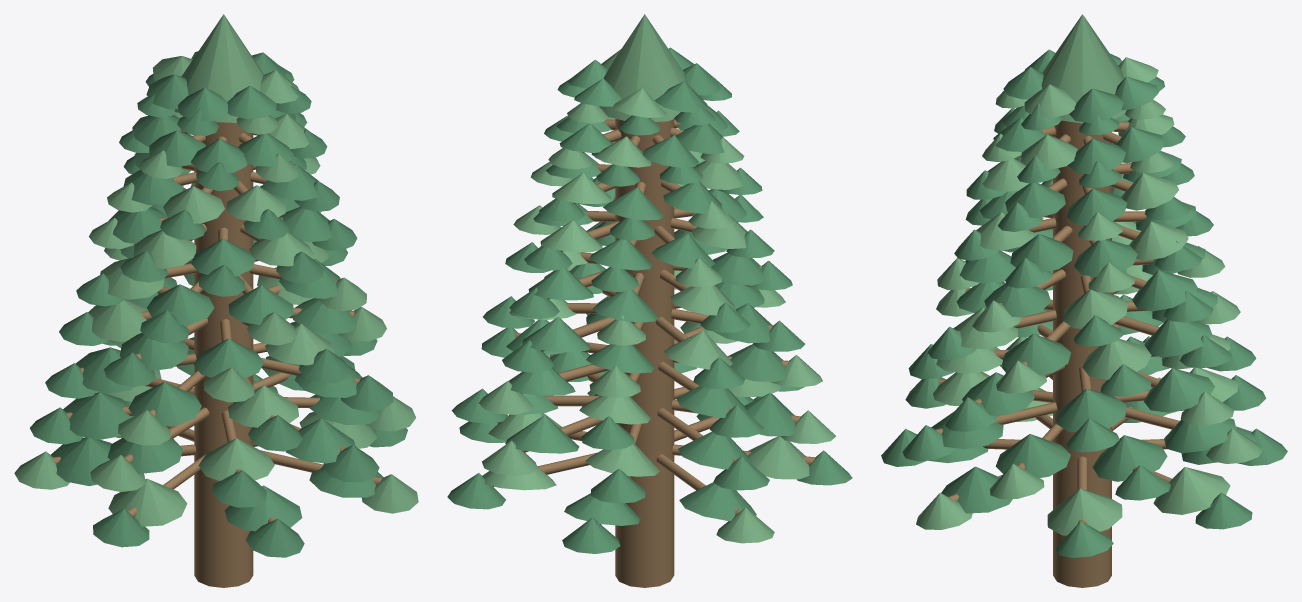
The model's file is pine_02.gltf.
3 views of the same model, side by side, from view 1: azimuth 30°, elevation 25°; view 2: azimuth 150°, elevation 25°; view 3: azimuth 270°, elevation 25° (orthographic).
Visible parts, largest first — view 1: Trunk, Top, Needle_0_3, Needle_1_4, Needle_1_2, Needle_2_2, Needle_0_4, Needle_2_1, Needle_3_3, Needle_3_1, Needle_1_1, Needle_0_2 (+71 smaller); view 2: Trunk, Top, Needle_0_3, Needle_0_4, Needle_1_6, Needle_1_4, Needle_2_2, Needle_1_5, Needle_0_5, Needle_3_3, Needle_1_3, Needle_3_5 (+75 smaller); view 3: Trunk, Top, Needle_0_6, Needle_0_0, Needle_1_7, Needle_1_0, Needle_2_5, Needle_2_6, Needle_0_1, Needle_3_6, Needle_3_7, Needle_3_5 (+72 smaller).
Boxes of the visible parts, x1=… form: Trunk: x1=194, y1=122, x2=253, y2=587; Top: x1=174, y1=14, x2=263, y2=122; Needle_0_3: x1=108, y1=478, x2=187, y2=526; Needle_1_4: x1=63, y1=392, x2=133, y2=439; Needle_1_2: x1=198, y1=438, x2=274, y2=480; Needle_2_2: x1=128, y1=382, x2=201, y2=425; Needle_0_4: x1=51, y1=437, x2=111, y2=486; Needle_2_1: x1=228, y1=385, x2=298, y2=427; Needle_3_3: x1=88, y1=299, x2=148, y2=342; Needle_3_1: x1=193, y1=338, x2=263, y2=378; Needle_1_1: x1=285, y1=418, x2=355, y2=463; Needle_0_2: x1=224, y1=485, x2=302, y2=531; Trunk: x1=615, y1=118, x2=674, y2=587; Top: x1=600, y1=14, x2=684, y2=121; Needle_0_3: x1=747, y1=436, x2=809, y2=479; Needle_0_4: x1=679, y1=482, x2=756, y2=520; Needle_1_6: x1=505, y1=415, x2=579, y2=453; Needle_1_4: x1=678, y1=431, x2=752, y2=469; Needle_2_2: x1=728, y1=344, x2=786, y2=381; Needle_1_5: x1=585, y1=443, x2=659, y2=476; Needle_0_5: x1=564, y1=493, x2=640, y2=525; Needle_3_3: x1=664, y1=330, x2=732, y2=369; Needle_1_3: x1=744, y1=393, x2=795, y2=436; Needle_3_5: x1=522, y1=317, x2=589, y2=352; Trunk: x1=1053, y1=120, x2=1111, y2=587; Top: x1=1041, y1=14, x2=1126, y2=123; Needle_0_6: x1=1153, y1=467, x2=1230, y2=514; Needle_0_0: x1=1047, y1=488, x2=1122, y2=535; Needle_1_7: x1=1092, y1=435, x2=1167, y2=481; Needle_1_0: x1=995, y1=434, x2=1070, y2=478; Needle_2_5: x1=1143, y1=368, x2=1214, y2=412; Needle_2_6: x1=1056, y1=388, x2=1126, y2=432; Needle_0_1: x1=941, y1=466, x2=1012, y2=513; Needle_3_6: x1=1082, y1=339, x2=1151, y2=379; Needle_3_7: x1=1002, y1=333, x2=1070, y2=375; Needle_3_5: x1=1144, y1=319, x2=1212, y2=357.
Bounding box in the file's own units: 3.39 × 5.25 × 3.45.
